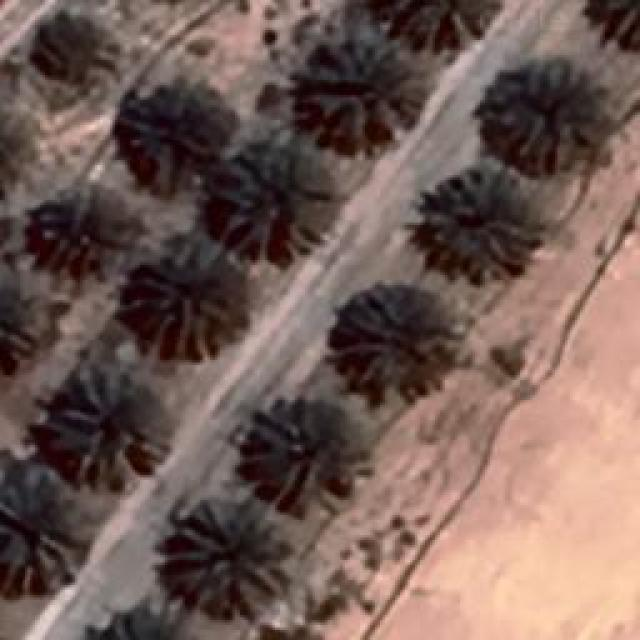PalmTree: (65, 41, 142, 620), (212, 122, 338, 260), (302, 22, 430, 150), (130, 232, 242, 358), (170, 498, 292, 612), (485, 50, 600, 170), (332, 290, 458, 395), (42, 370, 156, 485), (428, 157, 530, 280), (0, 470, 85, 592), (22, 89, 65, 324), (248, 396, 348, 494), (128, 78, 212, 182), (375, 0, 503, 58), (33, 178, 116, 266), (28, 10, 110, 89), (585, 0, 640, 51), (0, 103, 26, 197), (0, 106, 18, 198)
